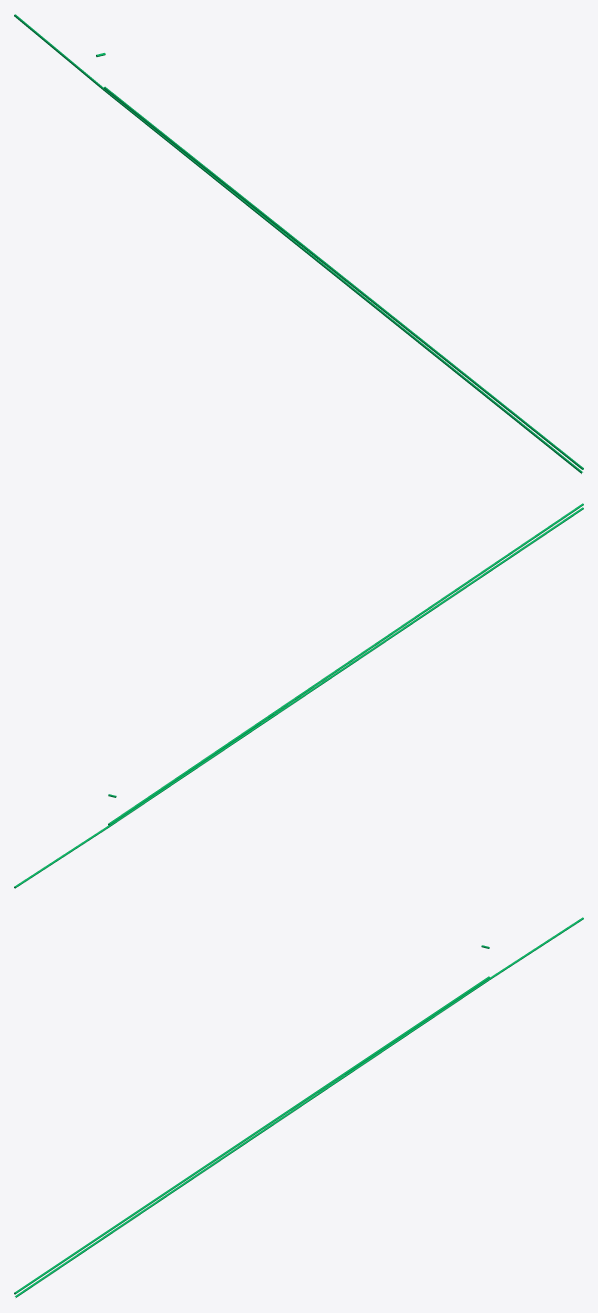
File: d0ffbf7b-ae7e-4406-aead-58fe658233f6.glb
3 views of the same model, one above another, from view 1: azimuth 30°, elevation 25°; view 2: azimuth 150°, elevation 25°; view 3: azimuth 330°, elevation 25° (orthographic). The views are drawn at different scales.
Visible parts, largest first — view 1: 297, 347; view 2: 297, 347; view 3: 347, 297.
Boxes of the visible parts, x1,y1,x2,y2 form: 297: (104, 86, 582, 469); 347: (104, 89, 582, 473); 297: (109, 503, 583, 824); 347: (109, 507, 583, 826); 347: (15, 978, 489, 1297); 297: (15, 976, 489, 1293).
Size of the model in its own units: 3.17 by 2.55 by 73.51.
